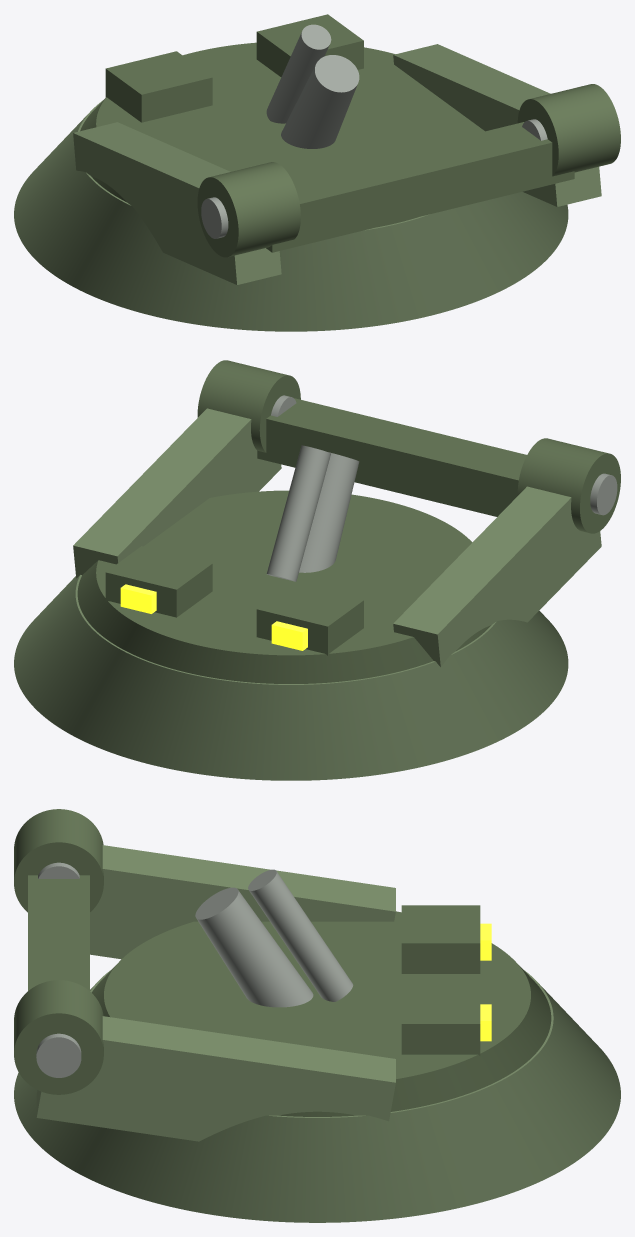
File: Scatter_turret.glb
The picture shows the model from 3 angles, top to bottom: view 1: azimuth 30°, elevation 25°; view 2: azimuth 150°, elevation 25°; view 3: azimuth 270°, elevation 25°; orthographic projection. The views are drawn at different scales.
Parts seen in each view (by area): view 1: Scatter_Turret; view 2: Scatter_Turret; view 3: Scatter_Turret.
Part boxes in pixels (box(x1,y1,x2,y2)): Scatter_Turret: box(14, 14, 620, 331); Scatter_Turret: box(14, 360, 620, 780); Scatter_Turret: box(14, 809, 620, 1222).
Bounding box in the file's own units: 2.16 × 0.873 × 2.16.
